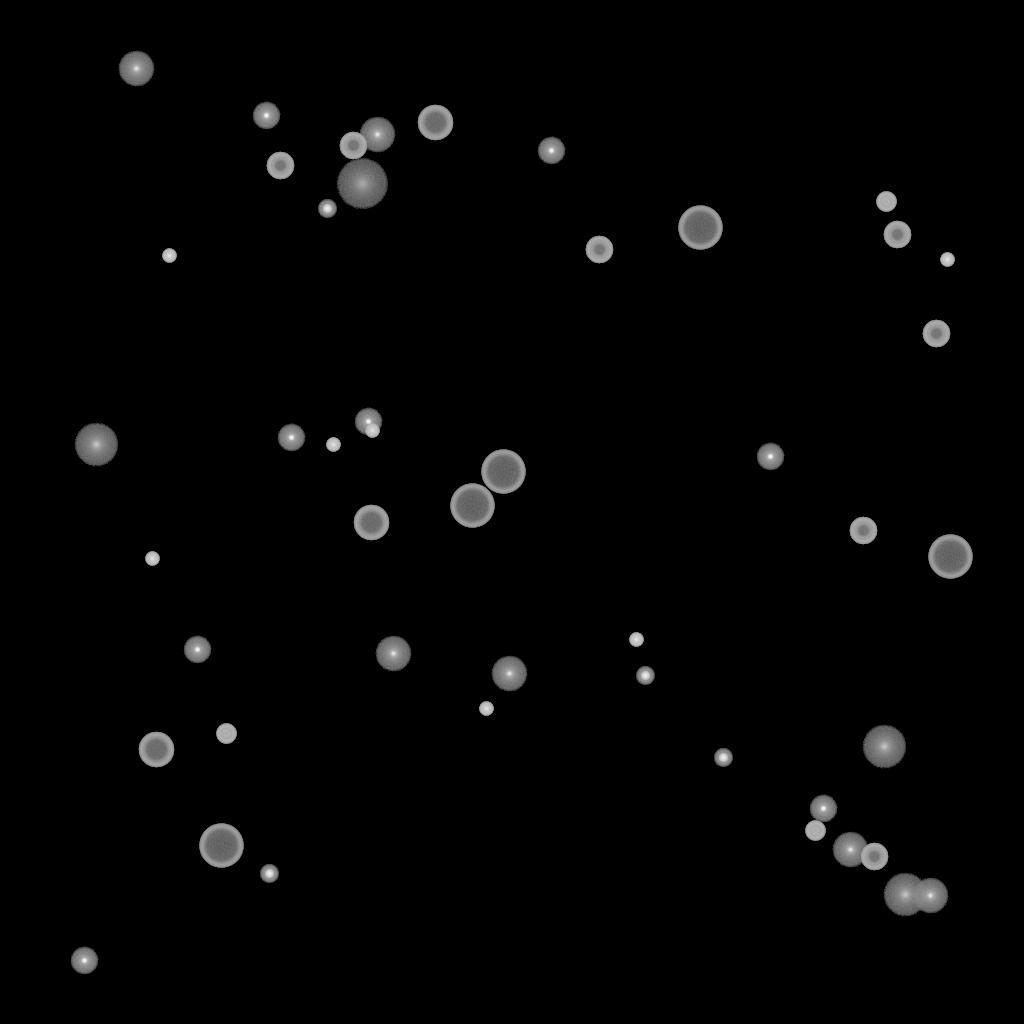depth:-10: (70, 947, 98, 975), (809, 795, 837, 823), (277, 424, 305, 452), (537, 137, 565, 165), (183, 636, 211, 664), (354, 408, 382, 436), (756, 443, 784, 471), (252, 102, 280, 130)
depth:-20: (636, 667, 654, 685), (318, 200, 336, 218), (260, 865, 278, 883), (714, 749, 732, 767)
depth:-30: (162, 249, 176, 263), (629, 633, 643, 647), (940, 253, 954, 267), (145, 552, 159, 566), (326, 438, 340, 452), (479, 702, 493, 716), (365, 424, 379, 438)
depth:-40: (876, 192, 896, 212), (805, 821, 825, 841), (216, 724, 236, 744)
depth:-50: (860, 843, 888, 871), (339, 132, 367, 160), (883, 221, 911, 249), (266, 152, 294, 180), (849, 517, 877, 545), (585, 236, 613, 264), (922, 320, 950, 348)
depth:-60: (138, 732, 174, 768), (353, 505, 389, 541), (417, 105, 453, 141)
depth:-70: (928, 535, 972, 579), (481, 450, 525, 494), (199, 824, 243, 868), (678, 206, 722, 250), (450, 484, 494, 528)
depth:0: (491, 656, 527, 692), (832, 832, 868, 868), (359, 117, 395, 153), (118, 51, 154, 87), (375, 636, 411, 672), (912, 878, 948, 914)
depth:10: (74, 423, 118, 467), (883, 873, 927, 917), (862, 725, 906, 769)
depth:20: (336, 159, 388, 209)
